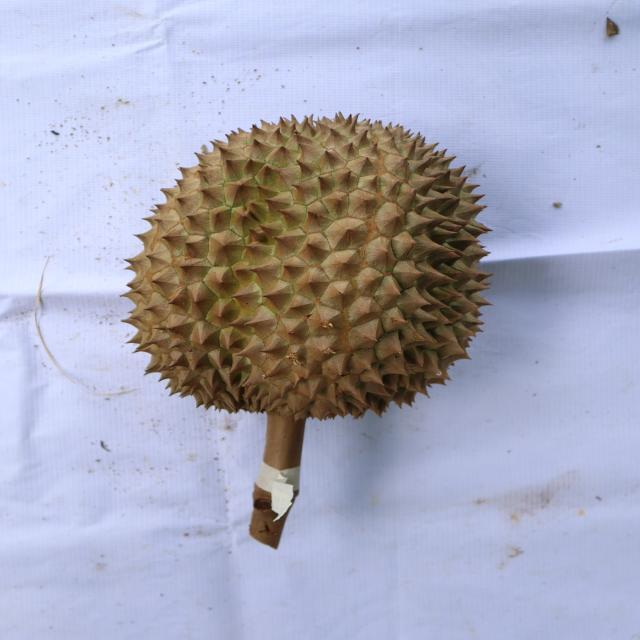mature: (120, 109, 494, 415)
